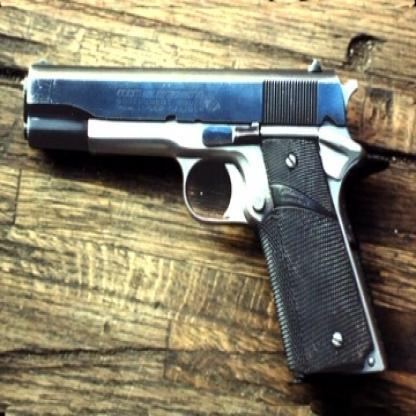gun: (28, 55, 385, 383)
